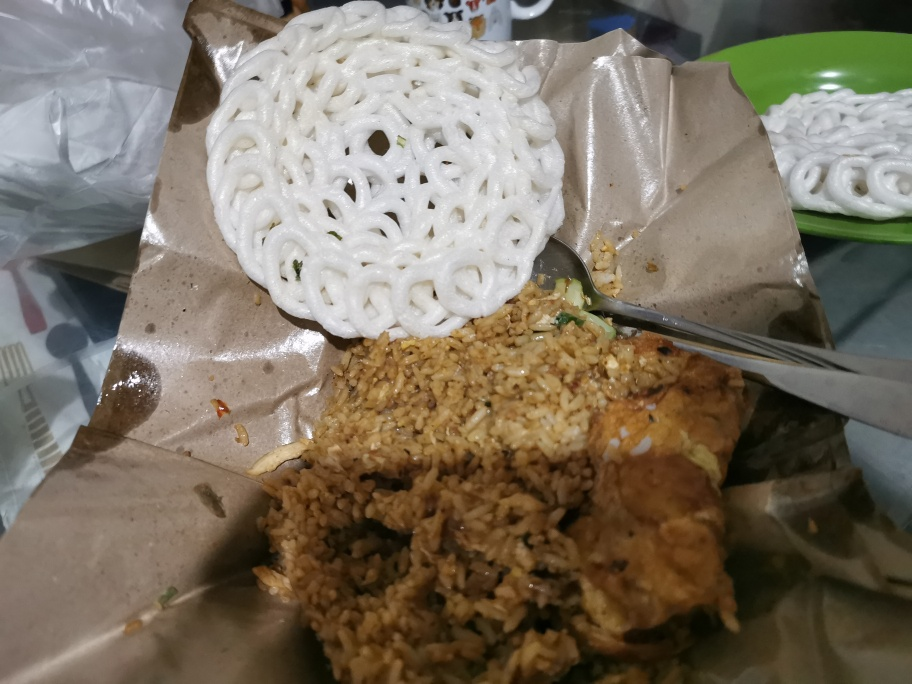kerupuk: (202, 1, 557, 331)
nasi goreng: (248, 329, 753, 684)
